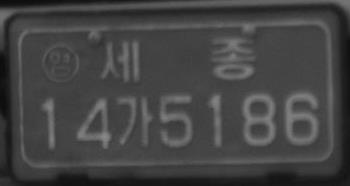1: (35, 95, 65, 151), (201, 92, 231, 148)
4: (74, 96, 114, 150)
5: (157, 92, 194, 149)
6: (284, 90, 320, 148)
8: (240, 91, 277, 148)
가: (114, 94, 153, 148)
세종_D: (98, 35, 256, 82)
영: (41, 42, 80, 84)
